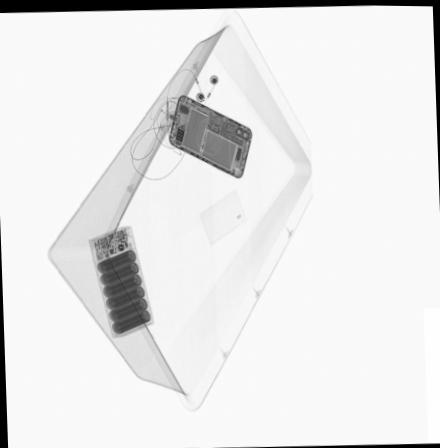Powerbank: (87, 223, 154, 337)
